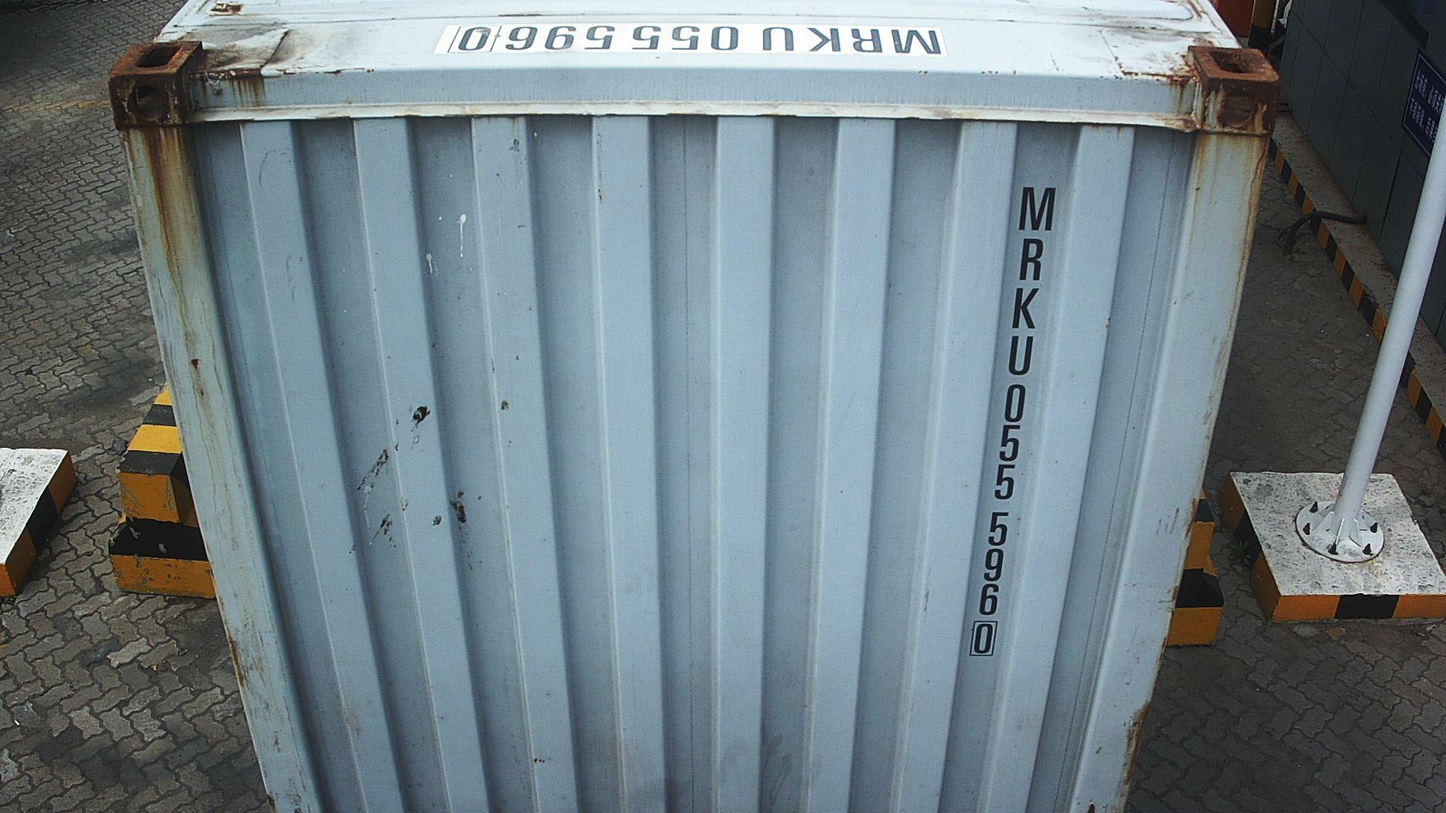container-numbers: (962, 179, 1062, 666), (430, 21, 953, 59)
